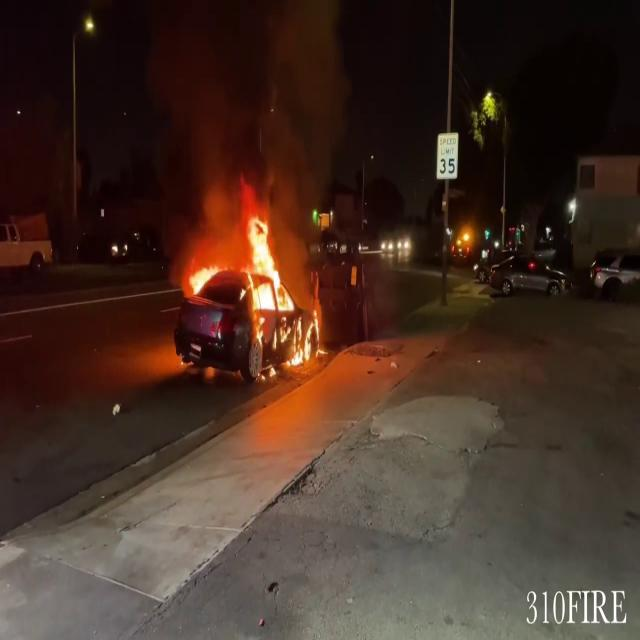Fire: (238, 208, 321, 371), (184, 252, 222, 298)
Smoke: (144, 0, 356, 235)
